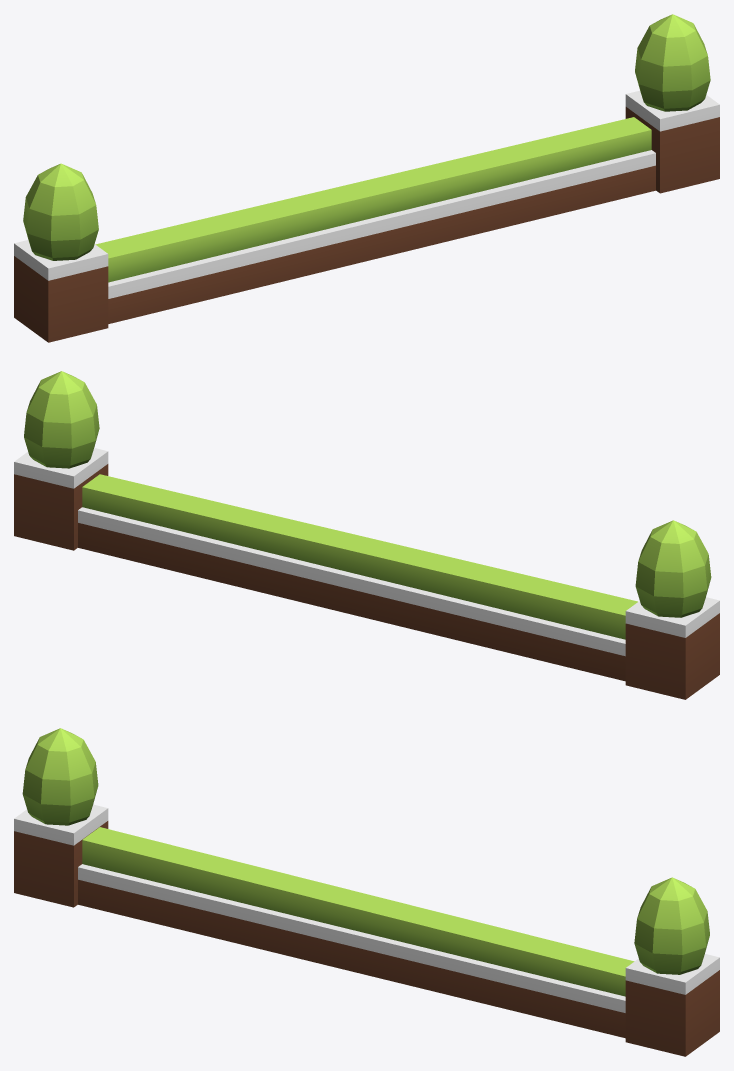
File: plants 2.fbx
The picture shows the model from 3 angles, top to bottom: view 1: azimuth 30°, elevation 25°; view 2: azimuth 150°, elevation 25°; view 3: azimuth 330°, elevation 25°; orthographic projection.
Visible parts, largest first — view 1: plants_2; view 2: plants_2; view 3: plants_2.
Part boxes in pixels (x1,y1,x2,y2): plants_2: (14,14,719,342); plants_2: (14,371,719,699); plants_2: (14,728,719,1056).
Bounding box in the file's own units: 702 × 158 × 70.2.
1 material, 1 textured.
